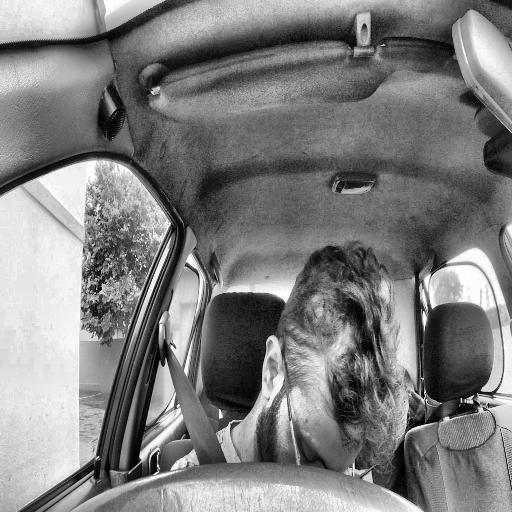drowsy: (259, 238, 408, 492)
